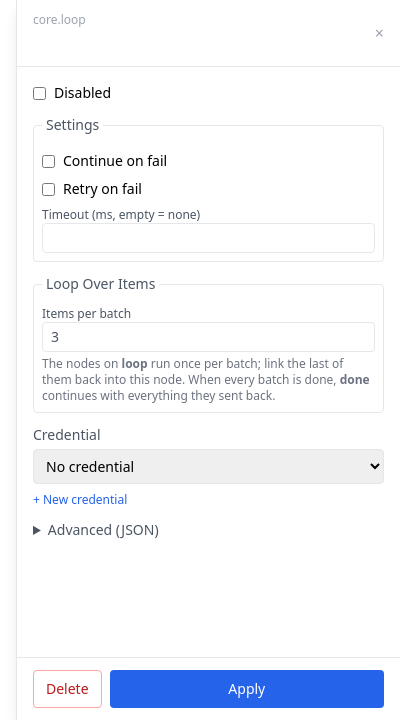
it: NodeConfigPanel › Loop Over Items › refuses a size below 1
Replace the text in the number field named "Items per batch" with "0": (208,337) [42, 322, 375, 352]
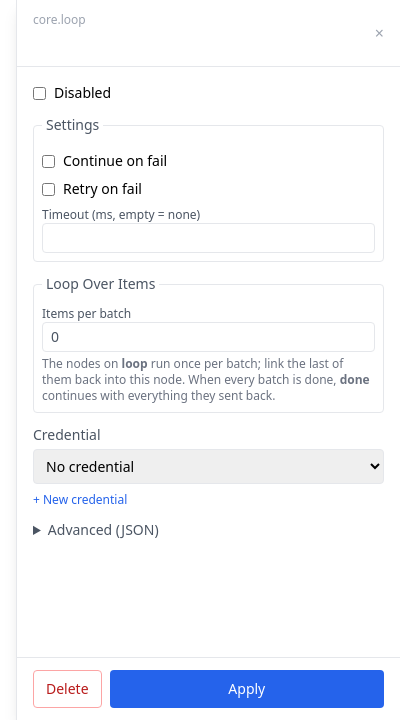
Click the button "Apply": (247,689) [110, 670, 384, 708]
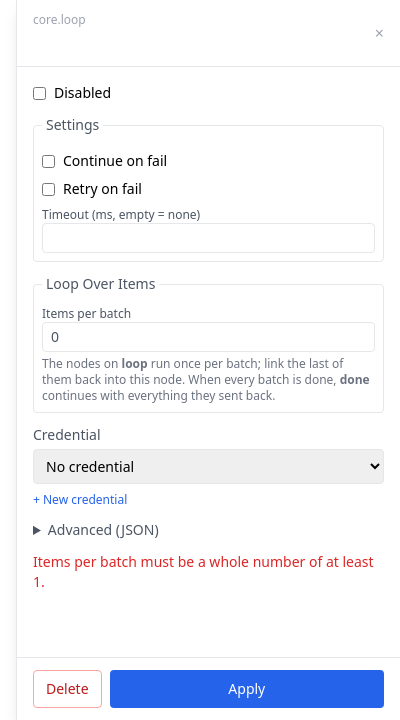
Check: the text "Items per batch must be a whole number of at least 1." is shown, box [33, 552, 384, 592]
